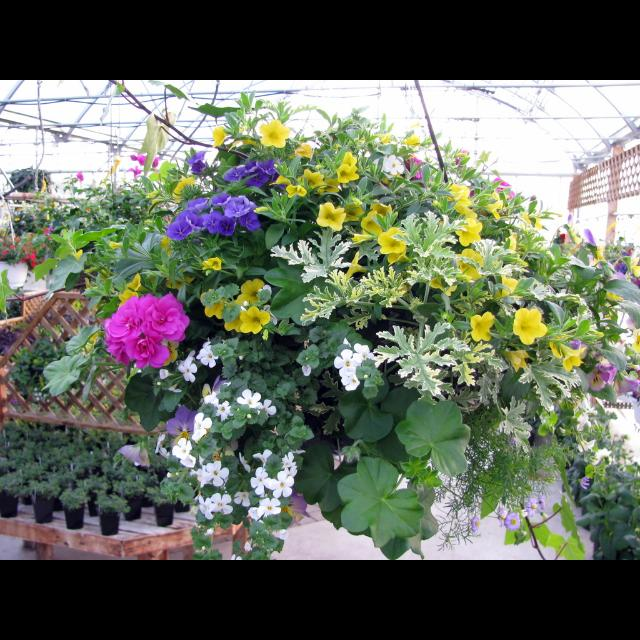Flower: (301, 126, 639, 488), (158, 340, 300, 522), (101, 295, 189, 367), (575, 461, 639, 559), (200, 271, 276, 335), (161, 199, 259, 235), (218, 164, 300, 186), (258, 116, 290, 148), (190, 144, 208, 178), (132, 146, 156, 168), (212, 128, 228, 146)
